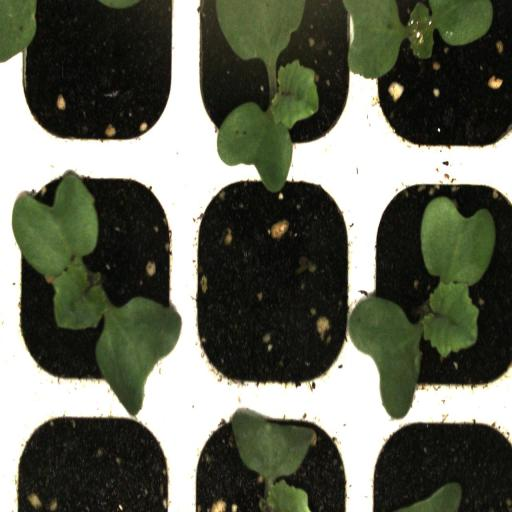Folha: (232, 411, 311, 512), (0, 0, 37, 62)
Germinacao: (10, 170, 187, 400), (361, 172, 512, 403), (184, 0, 363, 174), (365, 0, 512, 167)
